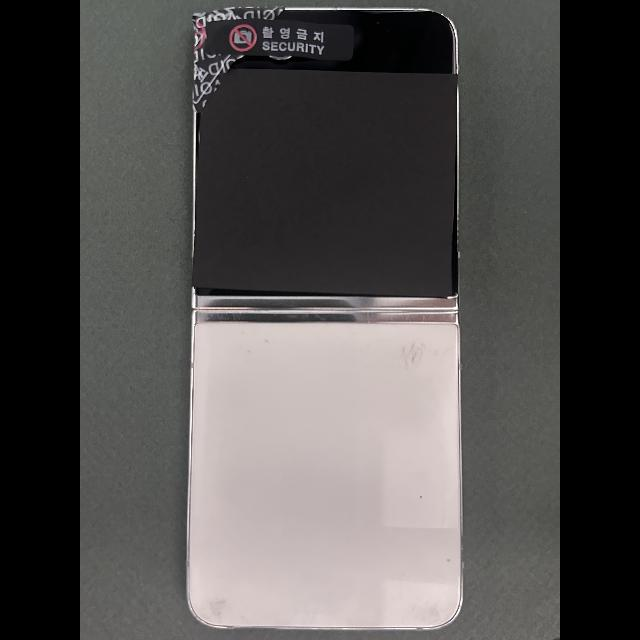lens: (269, 55, 292, 59)
phone: (187, 7, 464, 629)
sticker: (192, 7, 286, 112), (205, 18, 355, 61)
